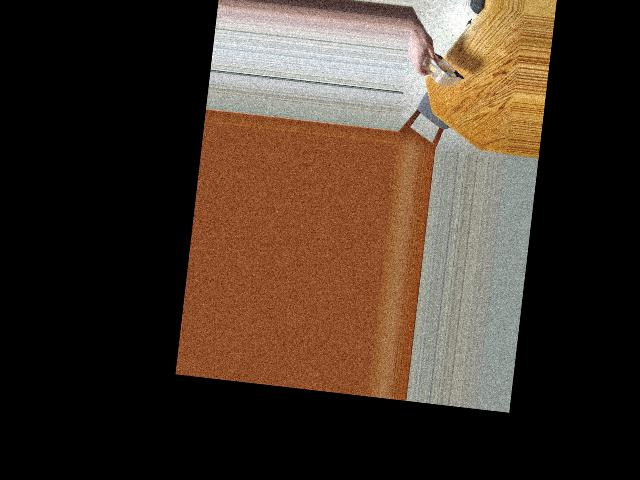cheese: (414, 35, 464, 93)
